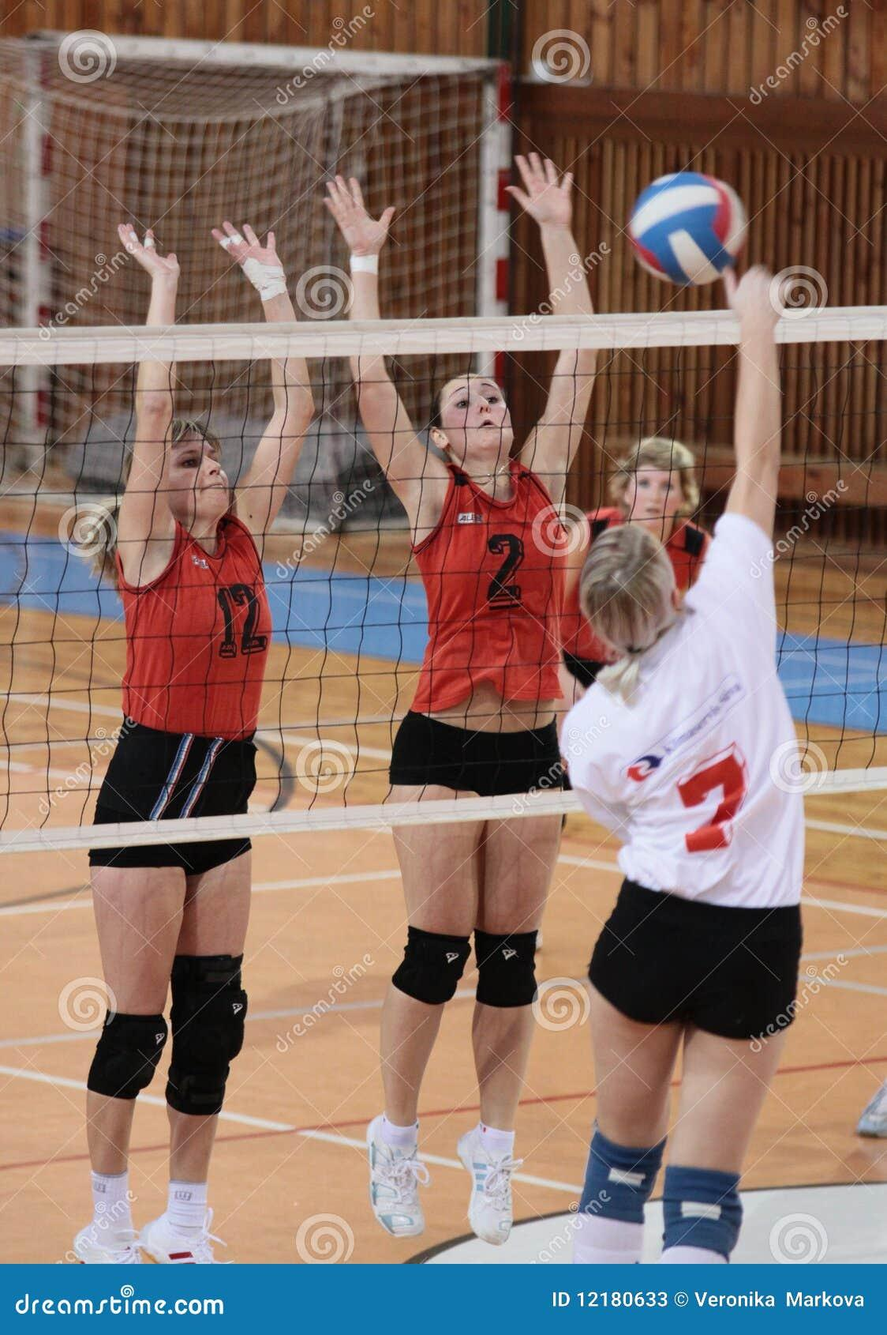ballon_volley: (627, 168, 746, 288)
